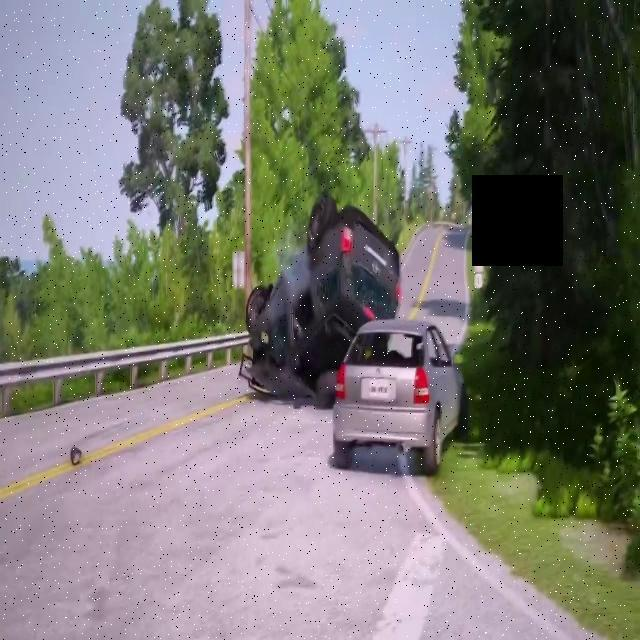person: (225, 198, 424, 410)
vehicle: (305, 268, 487, 488)
